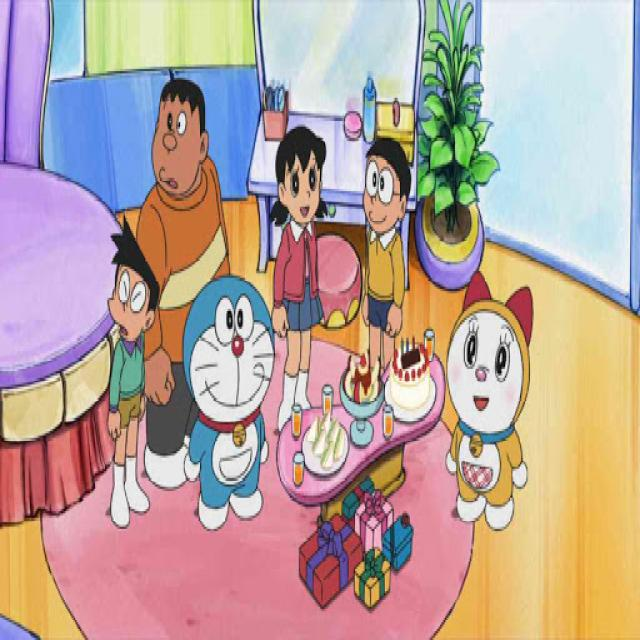doraemon: (175, 262, 281, 471)
jaian: (142, 64, 222, 220)
nobita: (352, 120, 418, 269)
shizuka: (268, 111, 336, 278)
suneo: (95, 211, 169, 365)
